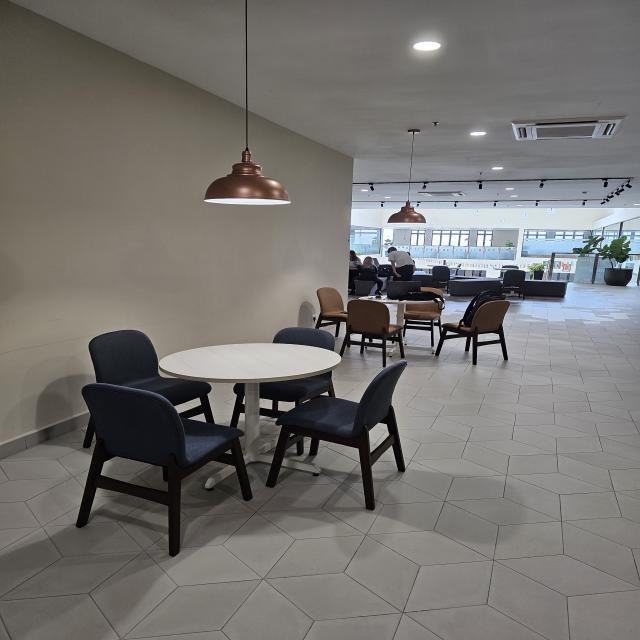footpath: (414, 380, 640, 637), (527, 306, 637, 372)
obstacle: (59, 333, 404, 544), (312, 278, 518, 368)
